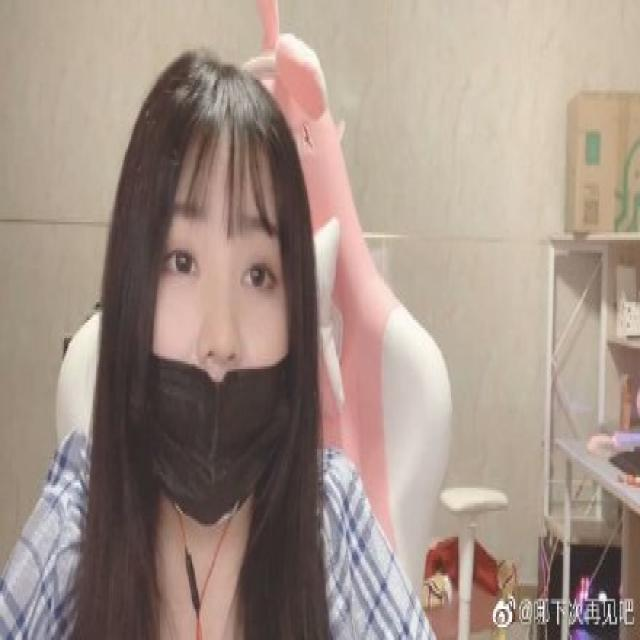hairnet: (148, 178, 288, 521)
